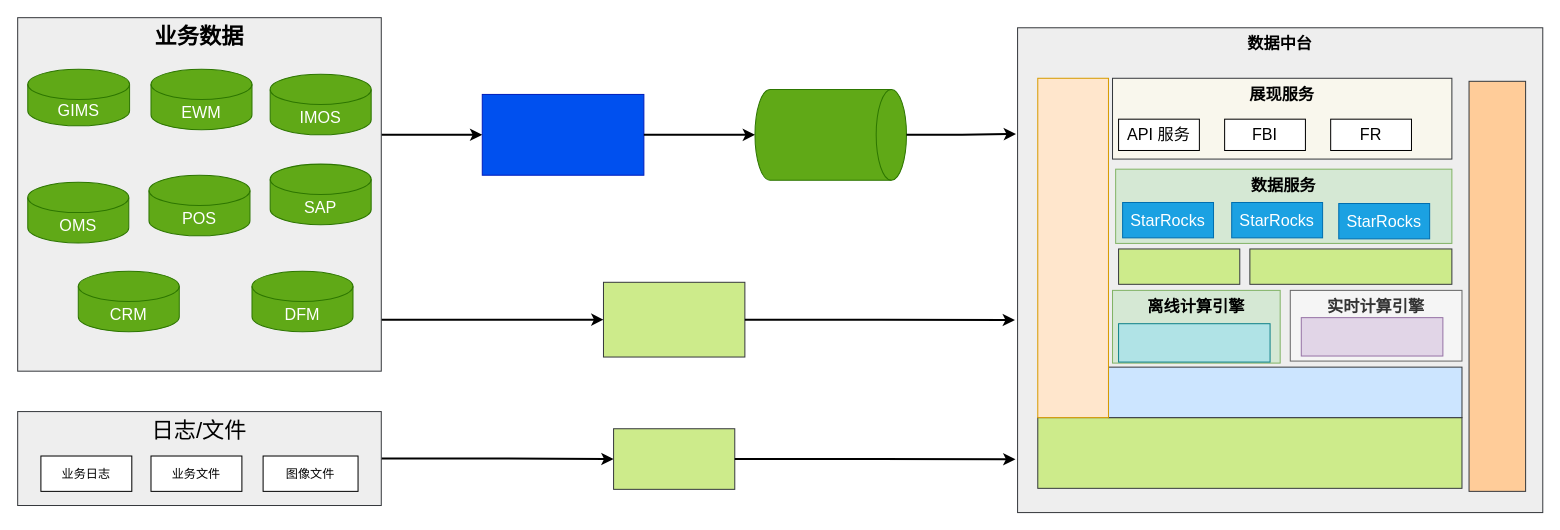
The diagram is 1560 pixels wide and 530 high, and some of its shapes have lost their labels. Each missing label, with the centre of its shape:
"DataX" belongs at (x=673, y=319).
"Debezium" belongs at (x=562, y=134).
"DolphinScheduler" belongs at (x=1072, y=247).
"Flink" belongs at (x=1371, y=336).
"Flume" belongs at (x=674, y=458).
"HDFS" belongs at (x=1249, y=452).
"Hive" belongs at (x=1179, y=266).
"Hudi" belongs at (x=1350, y=266).
"kafka" belongs at (x=830, y=134).
"Prometheus + Grafana" belongs at (x=1497, y=285).
"Spark" belongs at (x=1194, y=342).
"Yarn" belongs at (x=1284, y=392).
